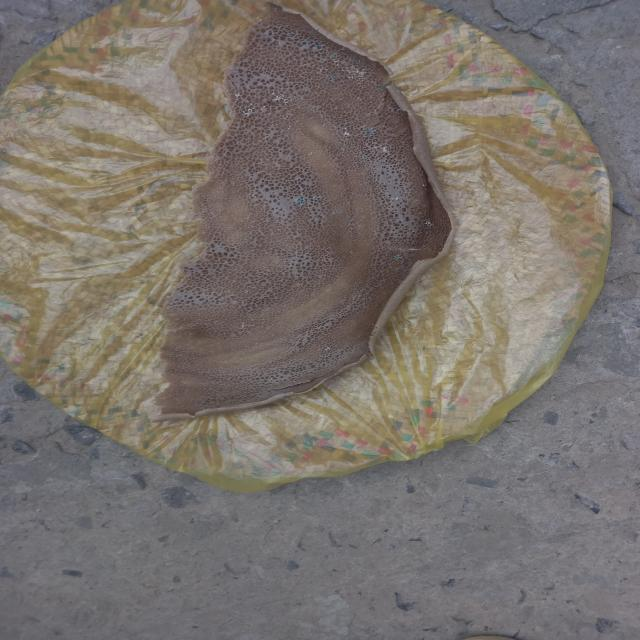injera_mold: (234, 101, 258, 117), (342, 66, 366, 80), (270, 92, 291, 105), (374, 145, 392, 158), (364, 127, 377, 137), (422, 219, 434, 229), (295, 198, 306, 204), (392, 254, 402, 260), (312, 195, 323, 200), (327, 75, 336, 81), (320, 67, 328, 73), (266, 38, 274, 44), (332, 59, 340, 65), (331, 210, 340, 215), (314, 44, 323, 48), (324, 346, 331, 351), (302, 41, 308, 46), (307, 152, 313, 156), (350, 57, 356, 61), (344, 132, 349, 136), (235, 93, 240, 97), (378, 88, 383, 91), (362, 158, 366, 161), (333, 54, 338, 56), (396, 198, 400, 200), (341, 148, 345, 150), (422, 184, 426, 186), (202, 409, 205, 411), (344, 128, 347, 130), (296, 372, 298, 374), (274, 371, 276, 373), (274, 374, 276, 376), (310, 377, 312, 379), (293, 381, 296, 382), (244, 392, 246, 393), (252, 395, 254, 396), (248, 401, 250, 402), (270, 378, 272, 379)
